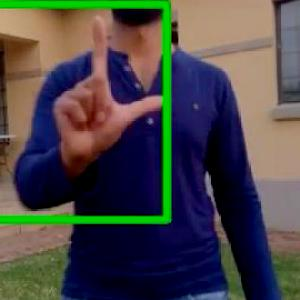land_hand: (44, 8, 170, 169)
